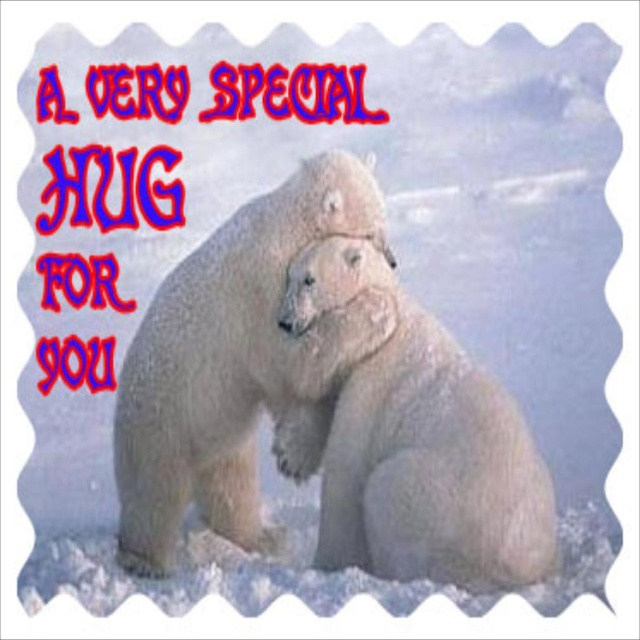Polar bear: (112, 148, 398, 581), (272, 239, 556, 588)
